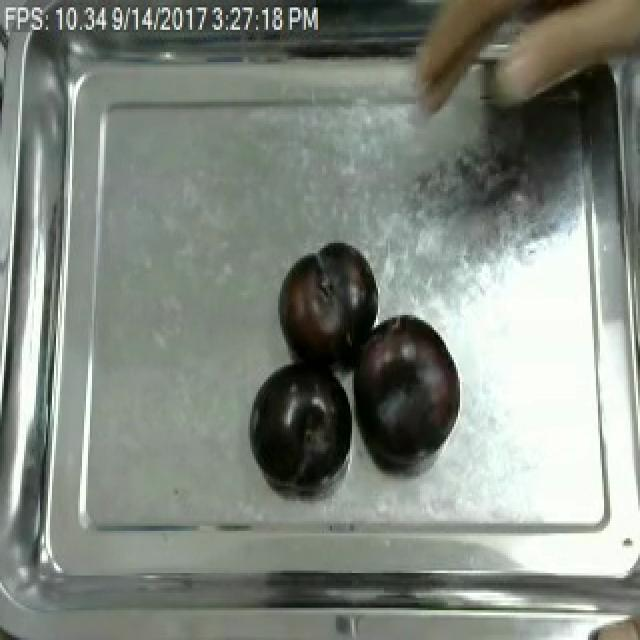Fruit: (356, 308, 464, 462), (272, 238, 378, 370), (244, 357, 352, 486), (578, 610, 640, 640)
